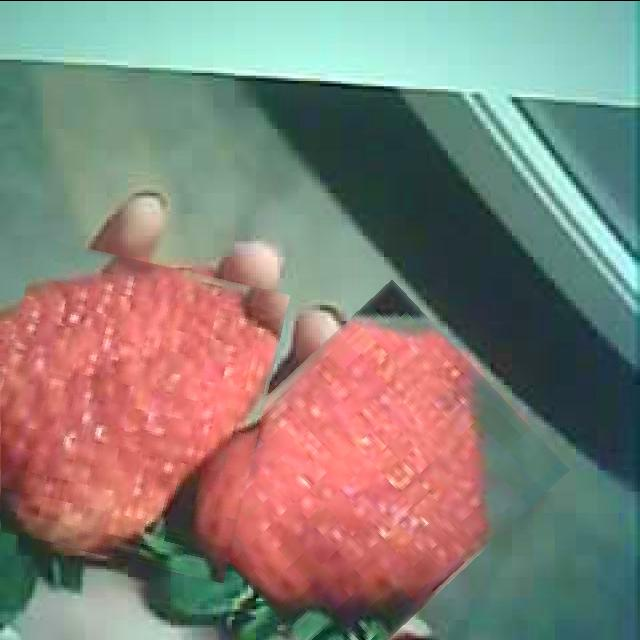strawberry: (187, 315, 547, 640), (0, 248, 275, 569)
